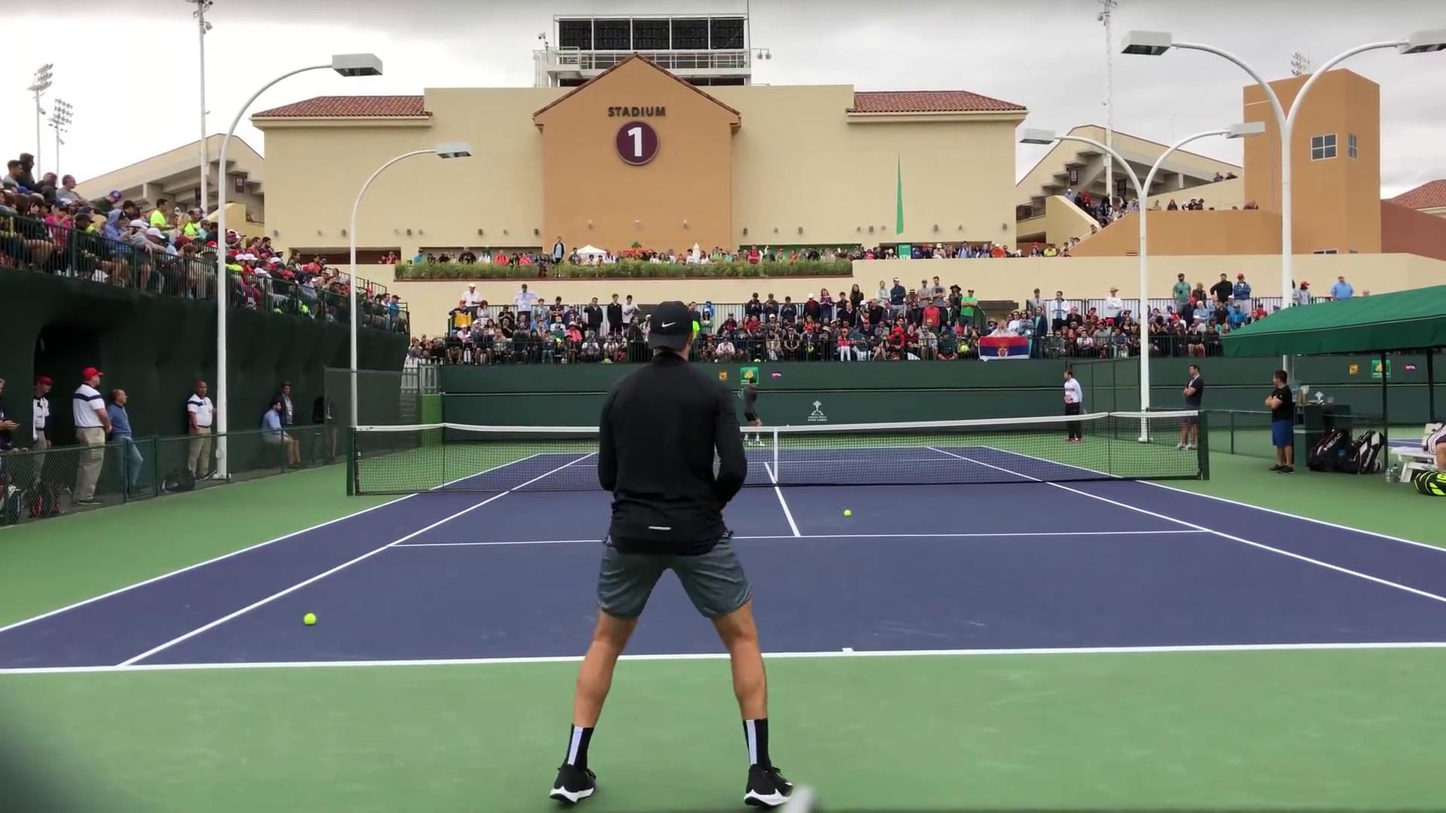ball: (303, 612, 316, 625), (842, 510, 851, 516), (786, 424, 789, 428)
